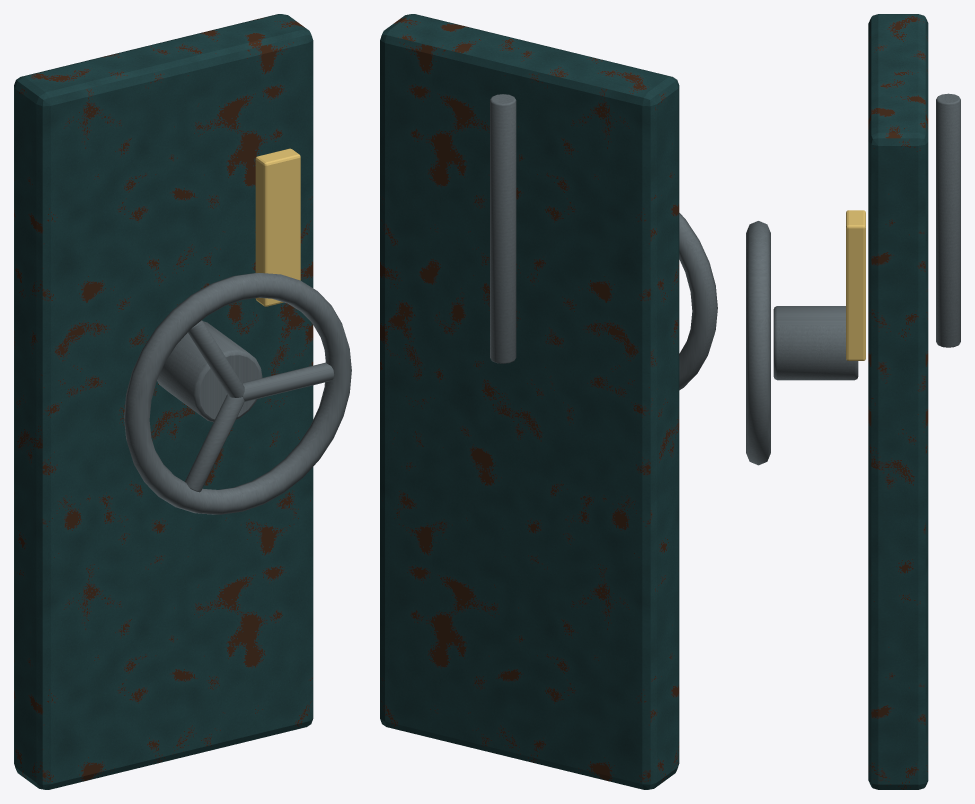
File: IslandServiceLatch.fbx
3 views of the same model, side by side, from view 1: azimuth 30°, elevation 25°; view 2: azimuth 150°, elevation 25°; view 3: azimuth 270°, elevation 25° (orthographic). The views are drawn at different scales.
Parts seen in each view (by area): view 1: IslandOxide_Surface.004__UnityExport, IslandMetal_Surface.004__UnityExport, IslandSafety_Surface.004__UnityExport; view 2: IslandOxide_Surface.004__UnityExport, IslandMetal_Surface.004__UnityExport; view 3: IslandOxide_Surface.004__UnityExport, IslandMetal_Surface.004__UnityExport, IslandSafety_Surface.004__UnityExport.
Part boxes in pixels (x1,y1,x2,y2): IslandOxide_Surface.004__UnityExport: (14,14,313,789); IslandMetal_Surface.004__UnityExport: (124,273,351,514); IslandSafety_Surface.004__UnityExport: (255,148,300,306); IslandOxide_Surface.004__UnityExport: (380,14,679,789); IslandMetal_Surface.004__UnityExport: (490,94,717,390); IslandOxide_Surface.004__UnityExport: (868,14,928,789); IslandMetal_Surface.004__UnityExport: (746,93,960,465); IslandSafety_Surface.004__UnityExport: (846,210,865,360).
Size of the model in its own units: 0.6 by 1.45 by 0.43.
